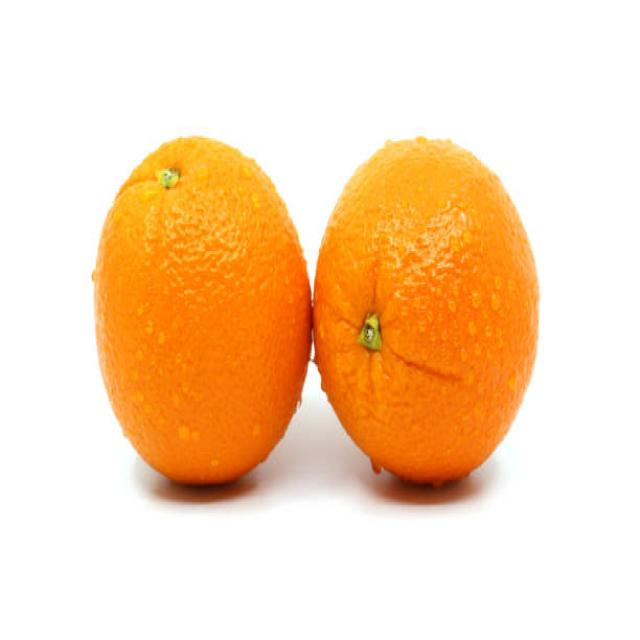Ripe: (313, 127, 546, 492), (88, 131, 312, 495)
